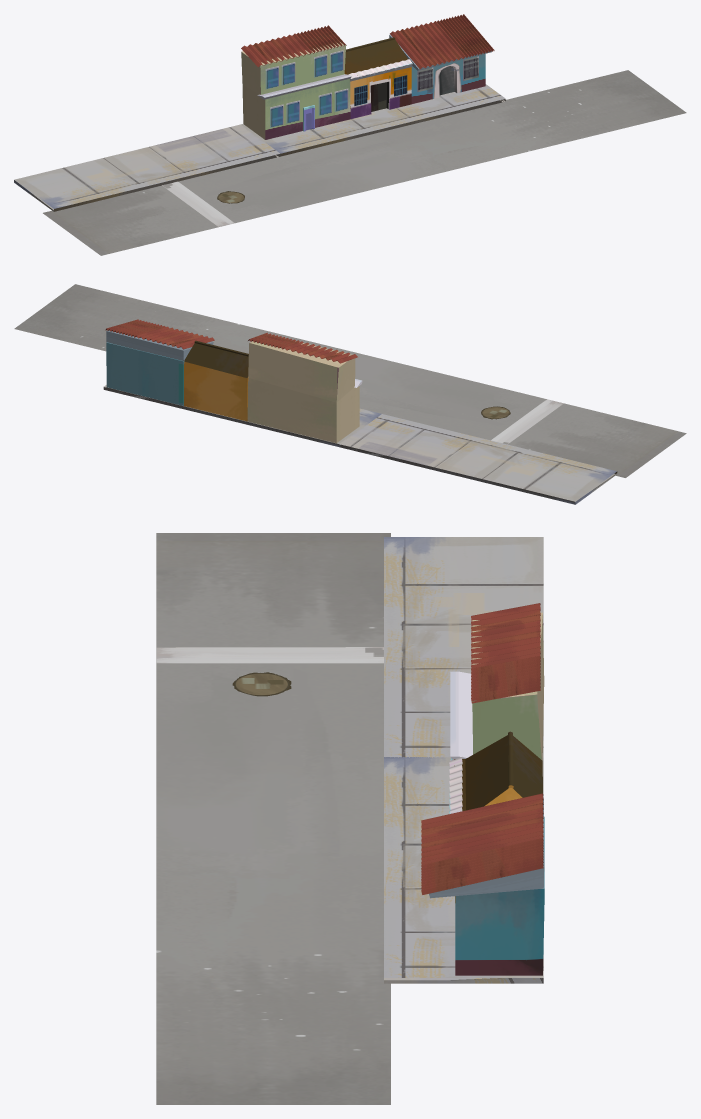
The model's file is callesycasasempty.fbx.
3 views of the same model, one above another, from view 1: azimuth 30°, elevation 25°; view 2: azimuth 150°, elevation 25°; view 3: azimuth 270°, elevation 25° (orthographic). The views are drawn at different scales.
Parts seen in each view (by area): view 1: Plane.005, Plane.001, Cube, Plane.002, Cube.001, Plane.004, Plane.012, Cube.003, Plane.003, Plane.006, Plane.011, Plane.010 (+2 smaller); view 2: Plane.005, Plane.001, Cube, Cube.001, Cube.003, Plane.004, Plane.002, Plane.012, Cube.007, Plane.011; view 3: Plane.005, Plane.001, Plane.002, Plane.004, Cube.003, Plane.012, Cube.001, Cube, Plane.011, Cube.008, Cube.007, alcantarilla.
Part boxes in pixels (left/top/right/bottom): Plane.005: left=43, top=70, right=686, bottom=255; Plane.001: left=14, top=124, right=280, bottom=211; Cube: left=241, top=42, right=350, bottom=139; Plane.002: left=241, top=84, right=505, bottom=156; Cube.001: left=344, top=37, right=411, bottom=118; Plane.004: left=390, top=14, right=494, bottom=69; Plane.012: left=241, top=25, right=346, bottom=67; Cube.003: left=411, top=54, right=485, bottom=103; Plane.003: left=265, top=50, right=343, bottom=89; Plane.006: left=270, top=88, right=348, bottom=127; Plane.011: left=162, top=181, right=234, bottom=226; Plane.010: left=417, top=56, right=478, bottom=92; Plane.005: left=14, top=284, right=686, bottom=477; Plane.001: left=339, top=414, right=617, bottom=504; Cube: left=247, top=335, right=359, bottom=443; Cube.001: left=184, top=340, right=248, bottom=421; Cube.003: left=106, top=342, right=184, bottom=405; Plane.004: left=105, top=319, right=214, bottom=349; Plane.002: left=103, top=385, right=381, bottom=446; Plane.012: left=248, top=332, right=357, bottom=363; Cube.007: left=106, top=330, right=213, bottom=360; Plane.011: left=491, top=399, right=563, bottom=444; Plane.005: left=156, top=533, right=390, bottom=1104; Plane.001: left=384, top=537, right=543, bottom=757; Plane.002: left=384, top=757, right=543, bottom=983; Plane.004: left=421, top=793, right=543, bottom=894; Cube.003: left=455, top=816, right=544, bottom=975; Plane.012: left=471, top=603, right=540, bottom=703; Cube.001: left=454, top=731, right=542, bottom=902; Cube: left=472, top=612, right=544, bottom=760; Plane.011: left=156, top=647, right=383, bottom=663; Cube.008: left=450, top=671, right=472, bottom=759; Cube.007: left=429, top=796, right=544, bottom=898; alcantarilla: left=232, top=672, right=291, bottom=696.
Size of the model in its own units: 17959 by 2390 by 5158.
Materials: 2 (2 with a texture image).
